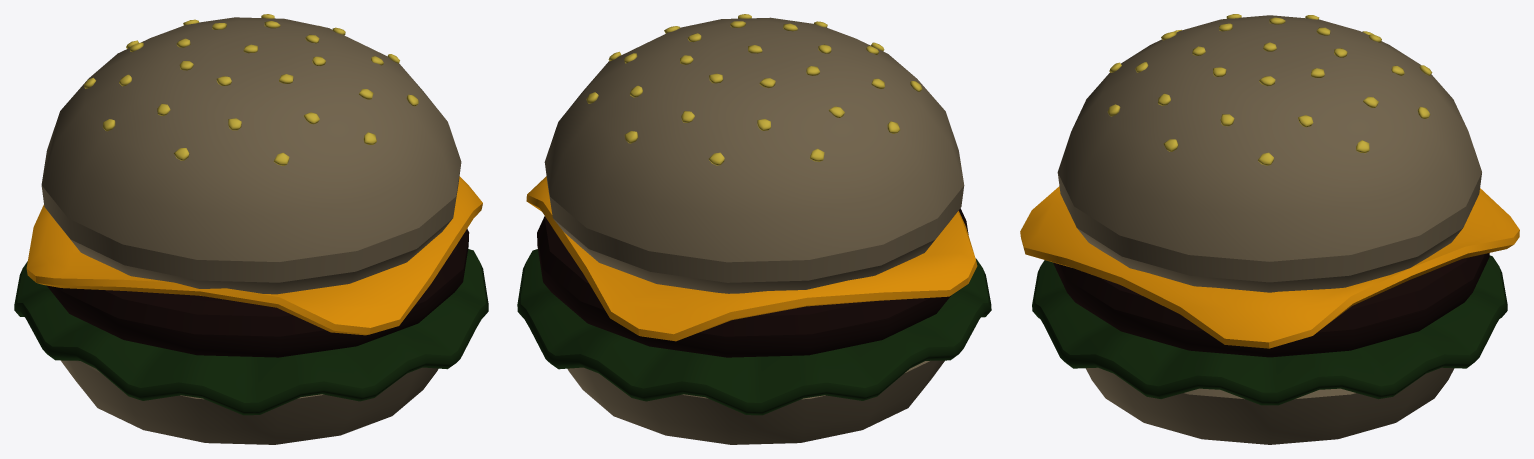
The model's file is Burger_1.FBX.
3 renders of one model, left to right at view 1: azimuth 30°, elevation 25°; view 2: azimuth 150°, elevation 25°; view 3: azimuth 270°, elevation 25°, orthographic.
Visible parts, largest first — view 1: Burger_1; view 2: Burger_1; view 3: Burger_1.
Part boxes in pixels (x1,y1,x2,y2): Burger_1: (14,14,488,444); Burger_1: (517,14,991,444); Burger_1: (1020,14,1519,444).
Size of the model in its own units: 1168 by 1169 by 864.
